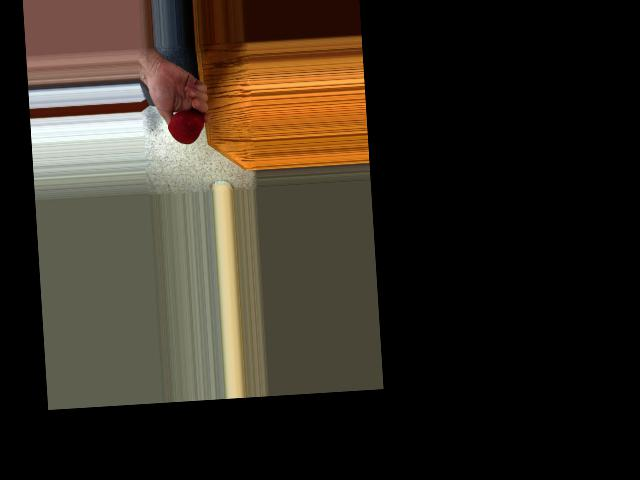apple: (167, 110, 203, 145)
